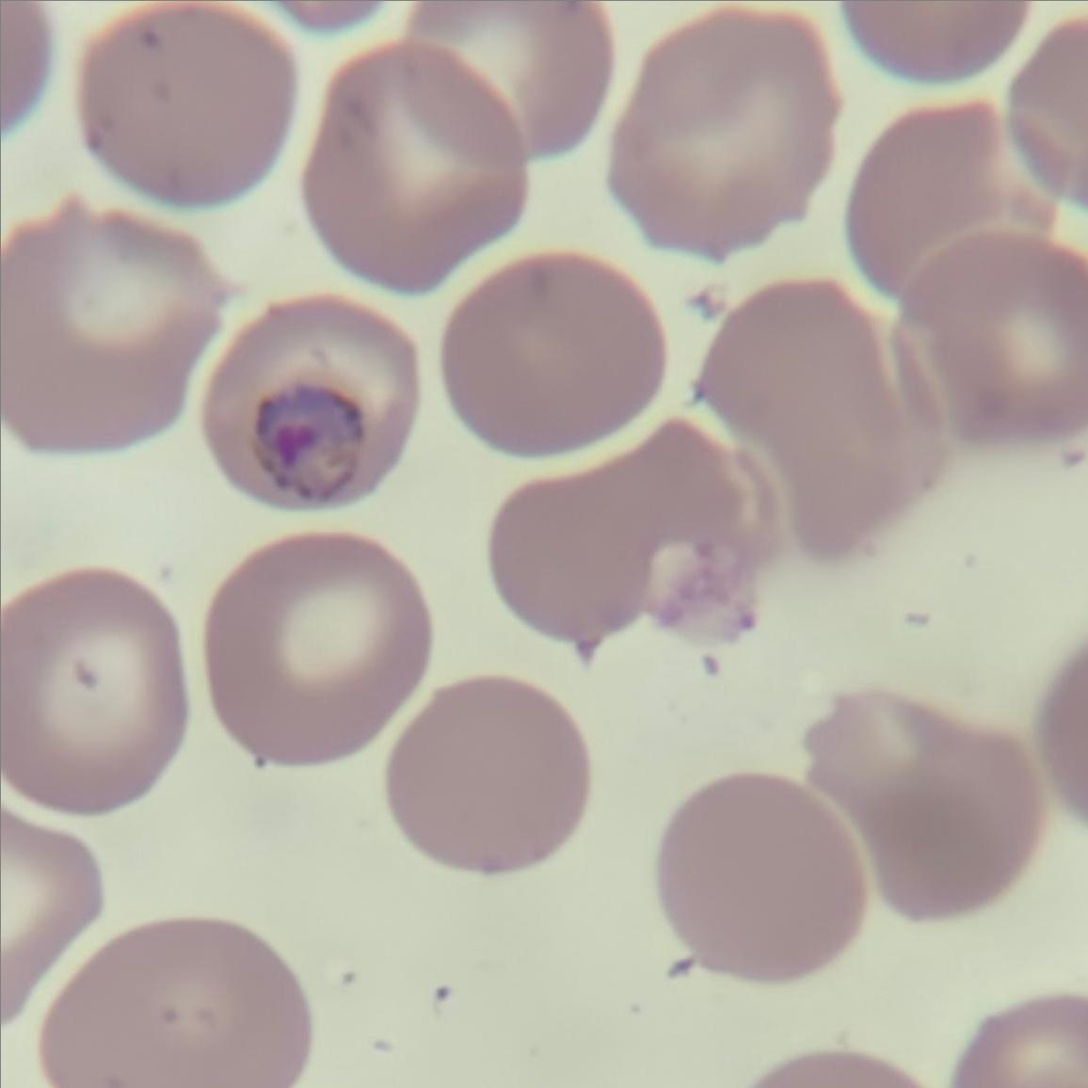Infected: (198, 294, 421, 513)
Uninfected: (698, 283, 948, 561), (491, 413, 782, 645), (296, 38, 530, 294), (806, 687, 1047, 925), (604, 4, 830, 251), (2, 202, 225, 451), (203, 533, 434, 767), (0, 561, 190, 818), (40, 915, 315, 1088), (440, 251, 667, 457), (77, 4, 300, 204), (657, 776, 866, 979), (894, 230, 1088, 448), (845, 100, 1054, 300), (383, 680, 594, 869), (393, 0, 612, 163)
